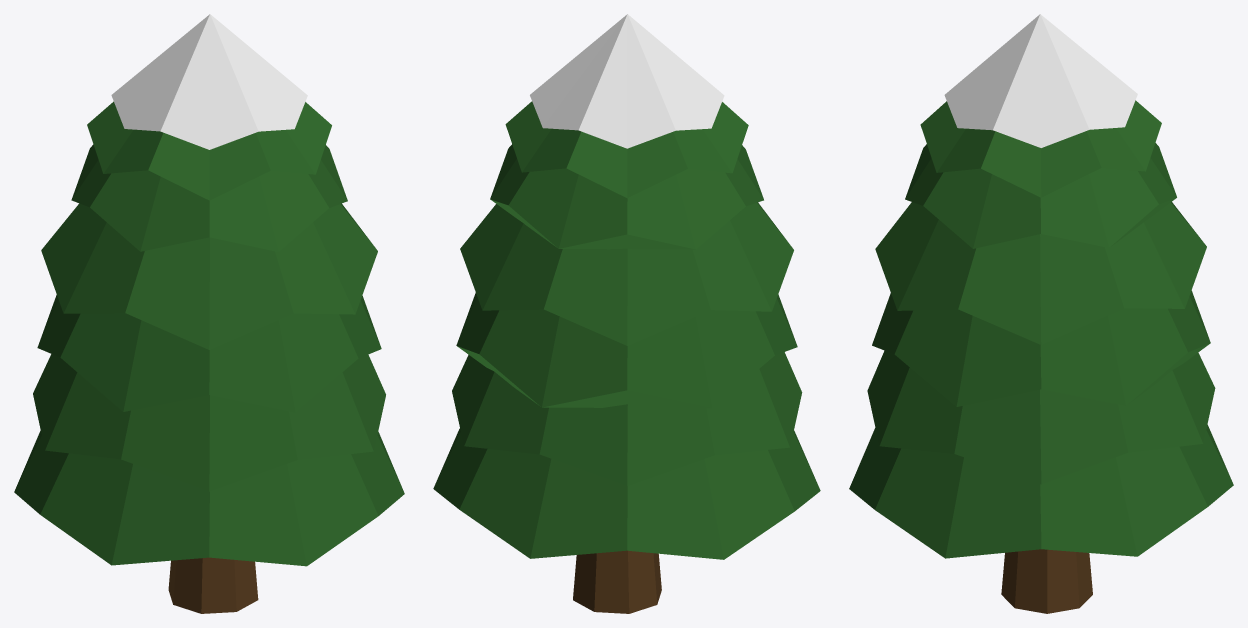
File: SnowTree.fbx
The picture shows the model from 3 angles, left to right: view 1: azimuth 30°, elevation 25°; view 2: azimuth 150°, elevation 25°; view 3: azimuth 270°, elevation 25°; orthographic projection.
Visible parts, largest first — view 1: SnowTree; view 2: SnowTree; view 3: SnowTree.
Part boxes in pixels (x1,y1,x2,y2): SnowTree: (14, 14, 404, 613); SnowTree: (433, 14, 820, 613); SnowTree: (849, 14, 1233, 613).
Size of the model in its own units: 369 by 609 by 368.
